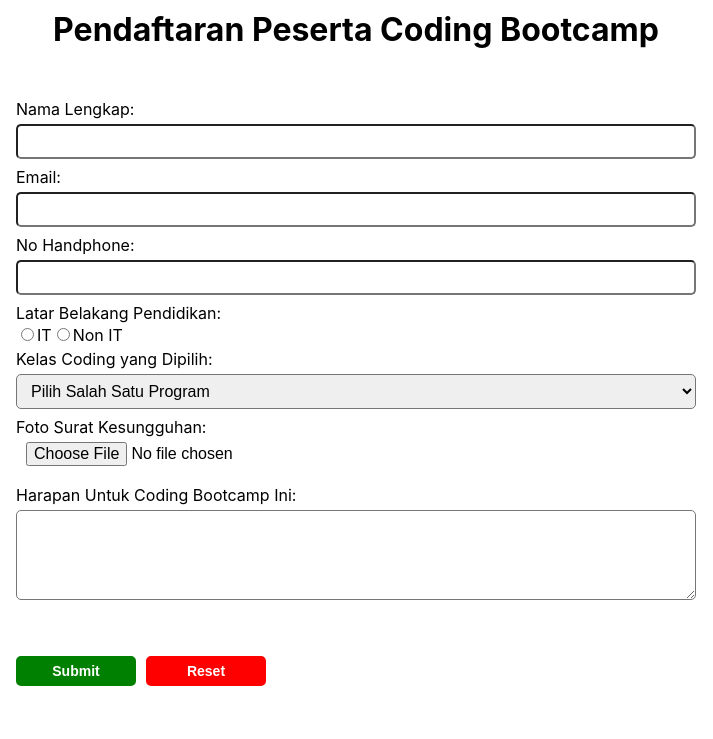
Scenario: FormCoding › test name field if the value given are not valid
The image size is (713, 739).
In the field labelled "Nama Lengkap:": {"x": 356, "y": 142} [16, 124, 696, 159], type "Anang999"
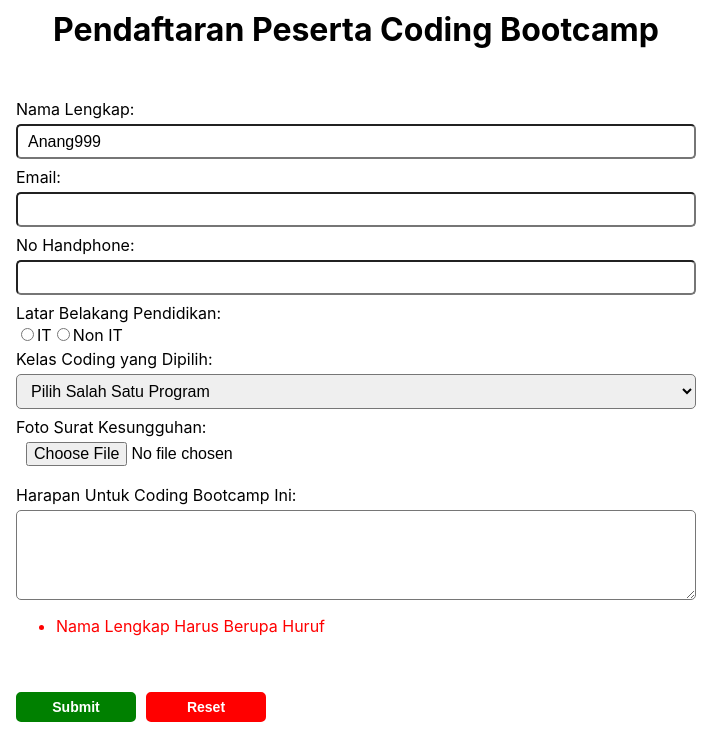
Check: the list item "Nama Lengkap Harus Berupa Huruf" is shown, box [56, 616, 325, 636]
